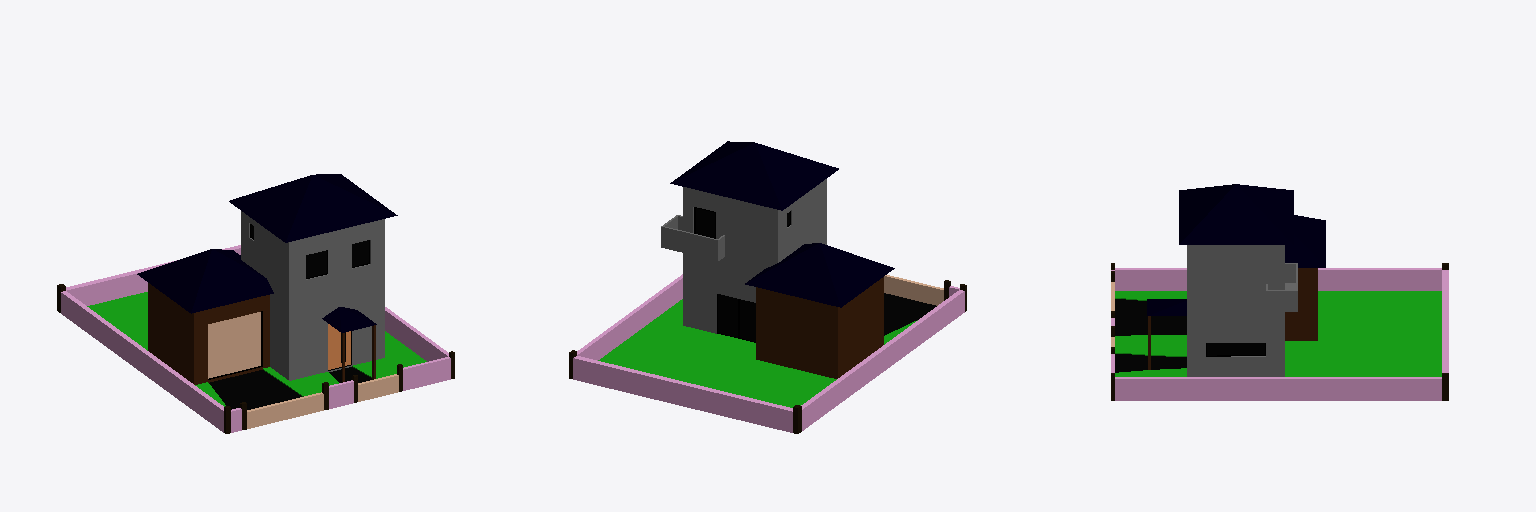
Rendered from pavillon.obj.
3 views of the same model, side by side, from view 1: azimuth 30°, elevation 25°; view 2: azimuth 150°, elevation 25°; view 3: azimuth 270°, elevation 25° (orthographic).
Visible parts, largest first — view 1: main, roof, bareeer, garage, grass, garagedoor, path, portail, Poto, window, door; view 2: bareeer, roof, main, grass, garage, window, balcony, path, portail, Poto; view 3: grass, bareeer, main, roof, path, garage, balcony, window, Poto.
Part boxes in pixels (x1,y1,x2,y2): main: (241,211,384,380); roof: (137,174,397,332); bareeer: (61,245,450,432); garage: (148,283,269,384); grass: (87,292,426,406); garagedoor: (208,312,260,378); path: (209,367,371,409); portail: (247,374,398,428); Poto: (57,284,454,433); window: (251,224,368,362); door: (328,324,350,369); bareeer: (573,274,964,432); roof: (670,141,894,307); main: (683,179,826,333); grass: (598,299,917,407); garage: (756,277,883,378); window: (696,208,789,341); balcony: (661,215,724,260); path: (884,293,936,335); portail: (884,275,943,305); Poto: (569,280,966,433); grass: (1115,291,1441,376); bareeer: (1111,268,1448,400); main: (1187,245,1284,376); roof: (1147,184,1325,315); path: (1115,299,1186,372); garage: (1285,268,1317,340); balcony: (1266,263,1297,311); window: (1207,343,1264,355); Poto: (1111,263,1448,400).
Size of the model in its own units: 150 by 112 by 192.